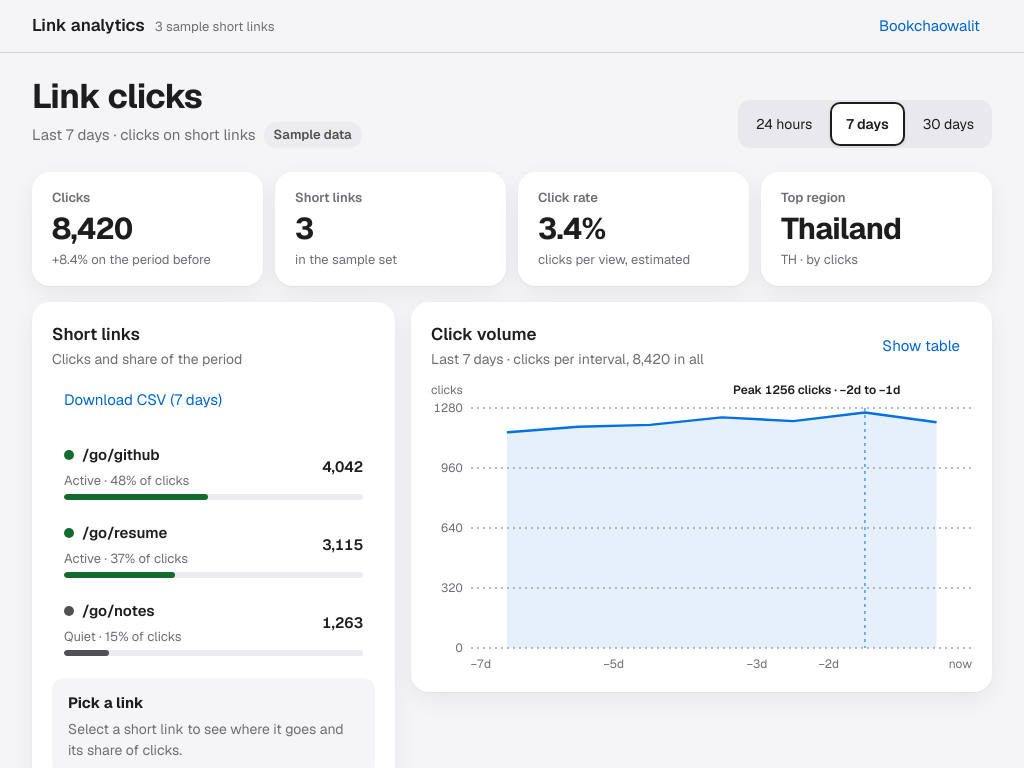
it: link analytics page › selects a link, explains it, and clears it on a second press
The width and height of the screenshot is (1024, 768).
Click the button "/go/resume Active · 37% of clicks 3,115": (125, 533) 52,512 -> 375,588
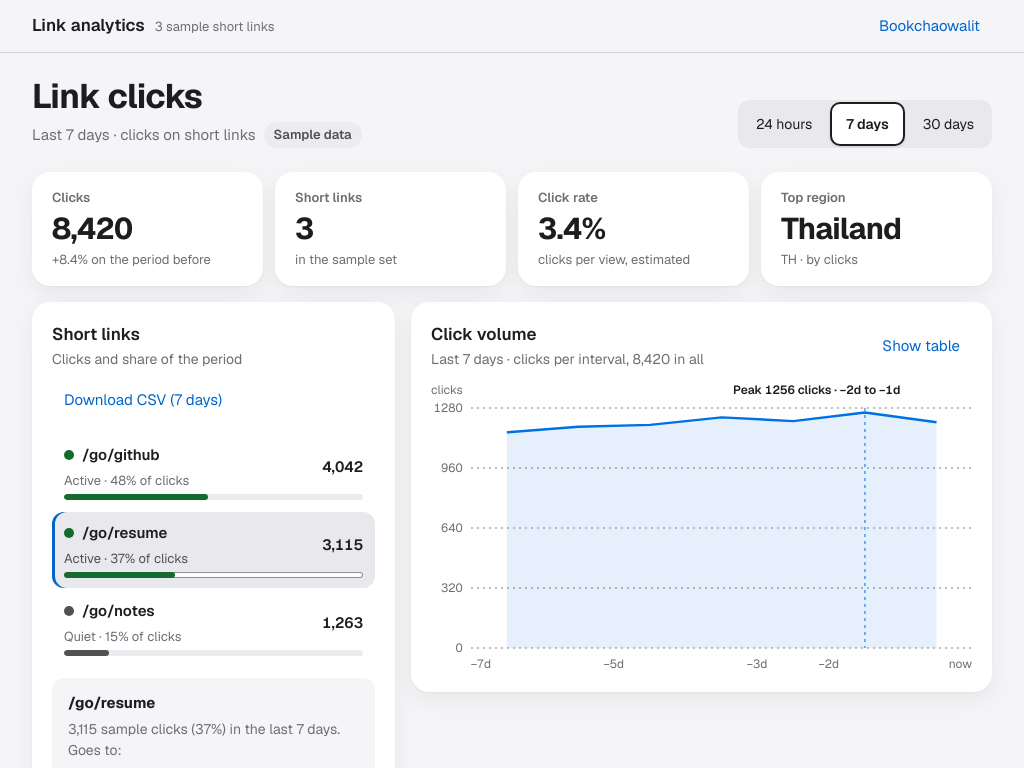
Expected: the button "/go/resume Active · 37% of clicks 3,115" is pressed
Click the button "/go/resume Active · 37% of clicks 3,115": (125, 533) 52,512 -> 375,588
(page scrolled)
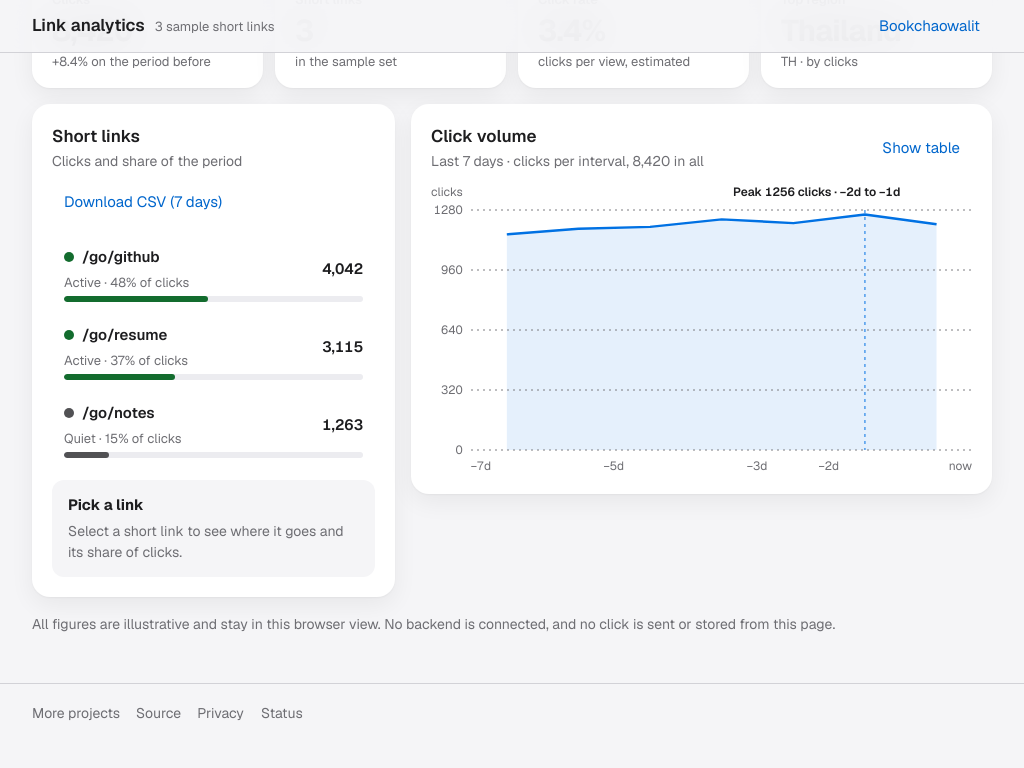
Expected: the element with class "ds-callout" shows "Pick a link", 68,495 -> 144,514
